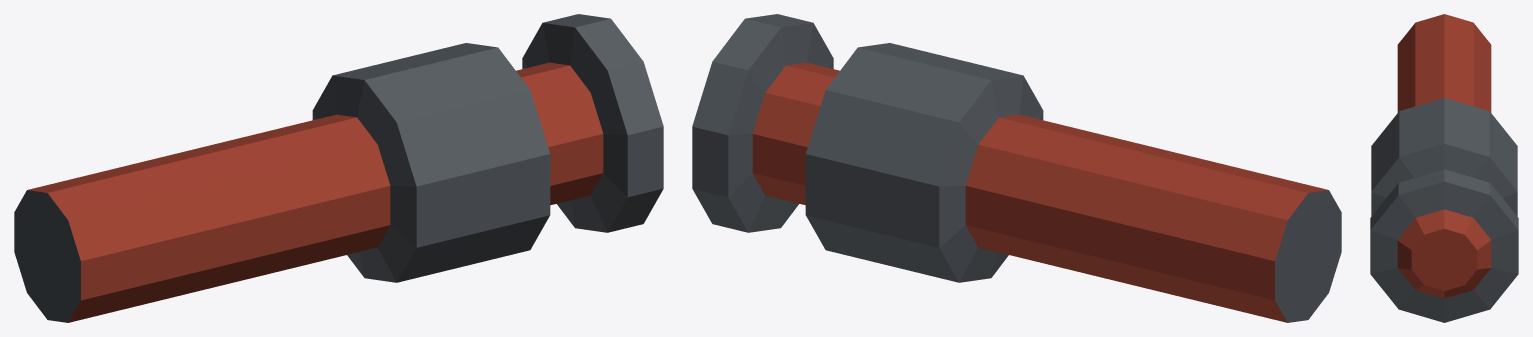
Rendered from Personal_Vehicle_01_Footrest_Red.fbx.
3 renders of one model, left to right at view 1: azimuth 30°, elevation 25°; view 2: azimuth 150°, elevation 25°; view 3: azimuth 270°, elevation 25°, orthographic. The views are drawn at different scales.
Parts seen in each view (by area): view 1: Personal_Vehicle_01_Footrest_Red; view 2: Personal_Vehicle_01_Footrest_Red; view 3: Personal_Vehicle_01_Footrest_Red.
Boxes of the visible parts, x1,y1,x2,y2 form: Personal_Vehicle_01_Footrest_Red: (14,14,663,322); Personal_Vehicle_01_Footrest_Red: (692,14,1341,322); Personal_Vehicle_01_Footrest_Red: (1370,14,1518,322).
Bounding box in the file's own units: 36.53 × 11.96 × 11.37.
1 material, 1 textured.
